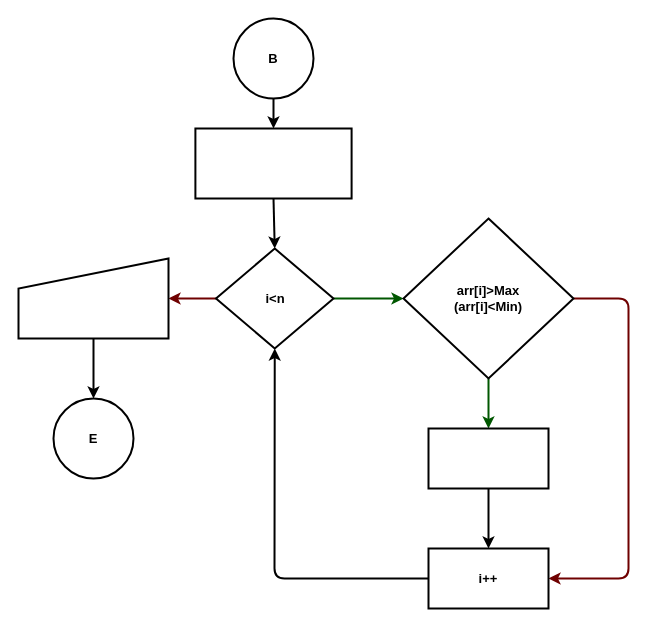
Image size: 654x626. Some labels were removed from this diagram. The shapes that lost their labels are listed below. From the top down, each one's centre as x and y in pixels, then its label:
At [273,163]: "Max=arr[0](Min=arr[0]), i=0".
At [93,298]: "Hiển thị Max (Min)".
At [488,458]: "Max = arr[i](Min = arr[i])".
